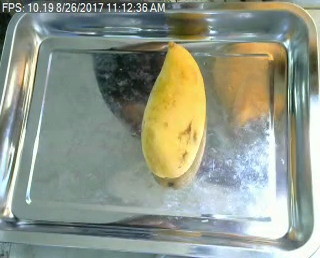Mango: (133, 34, 212, 183)
